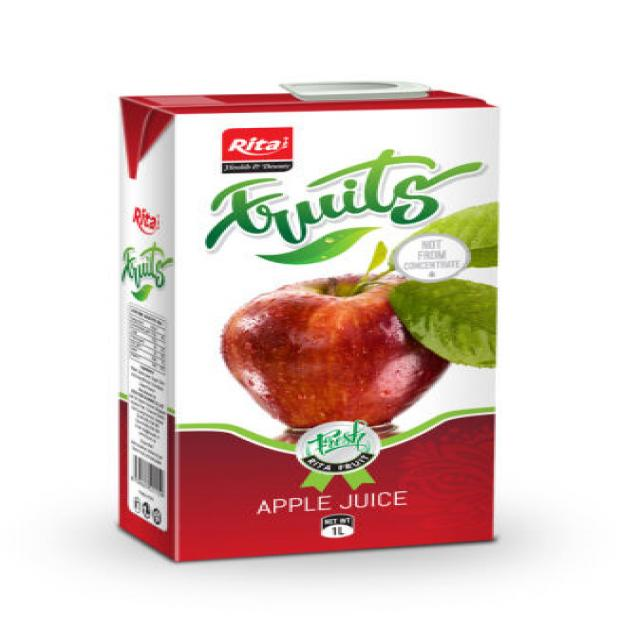non_white_jug: (292, 94, 640, 640), (116, 78, 503, 568)
